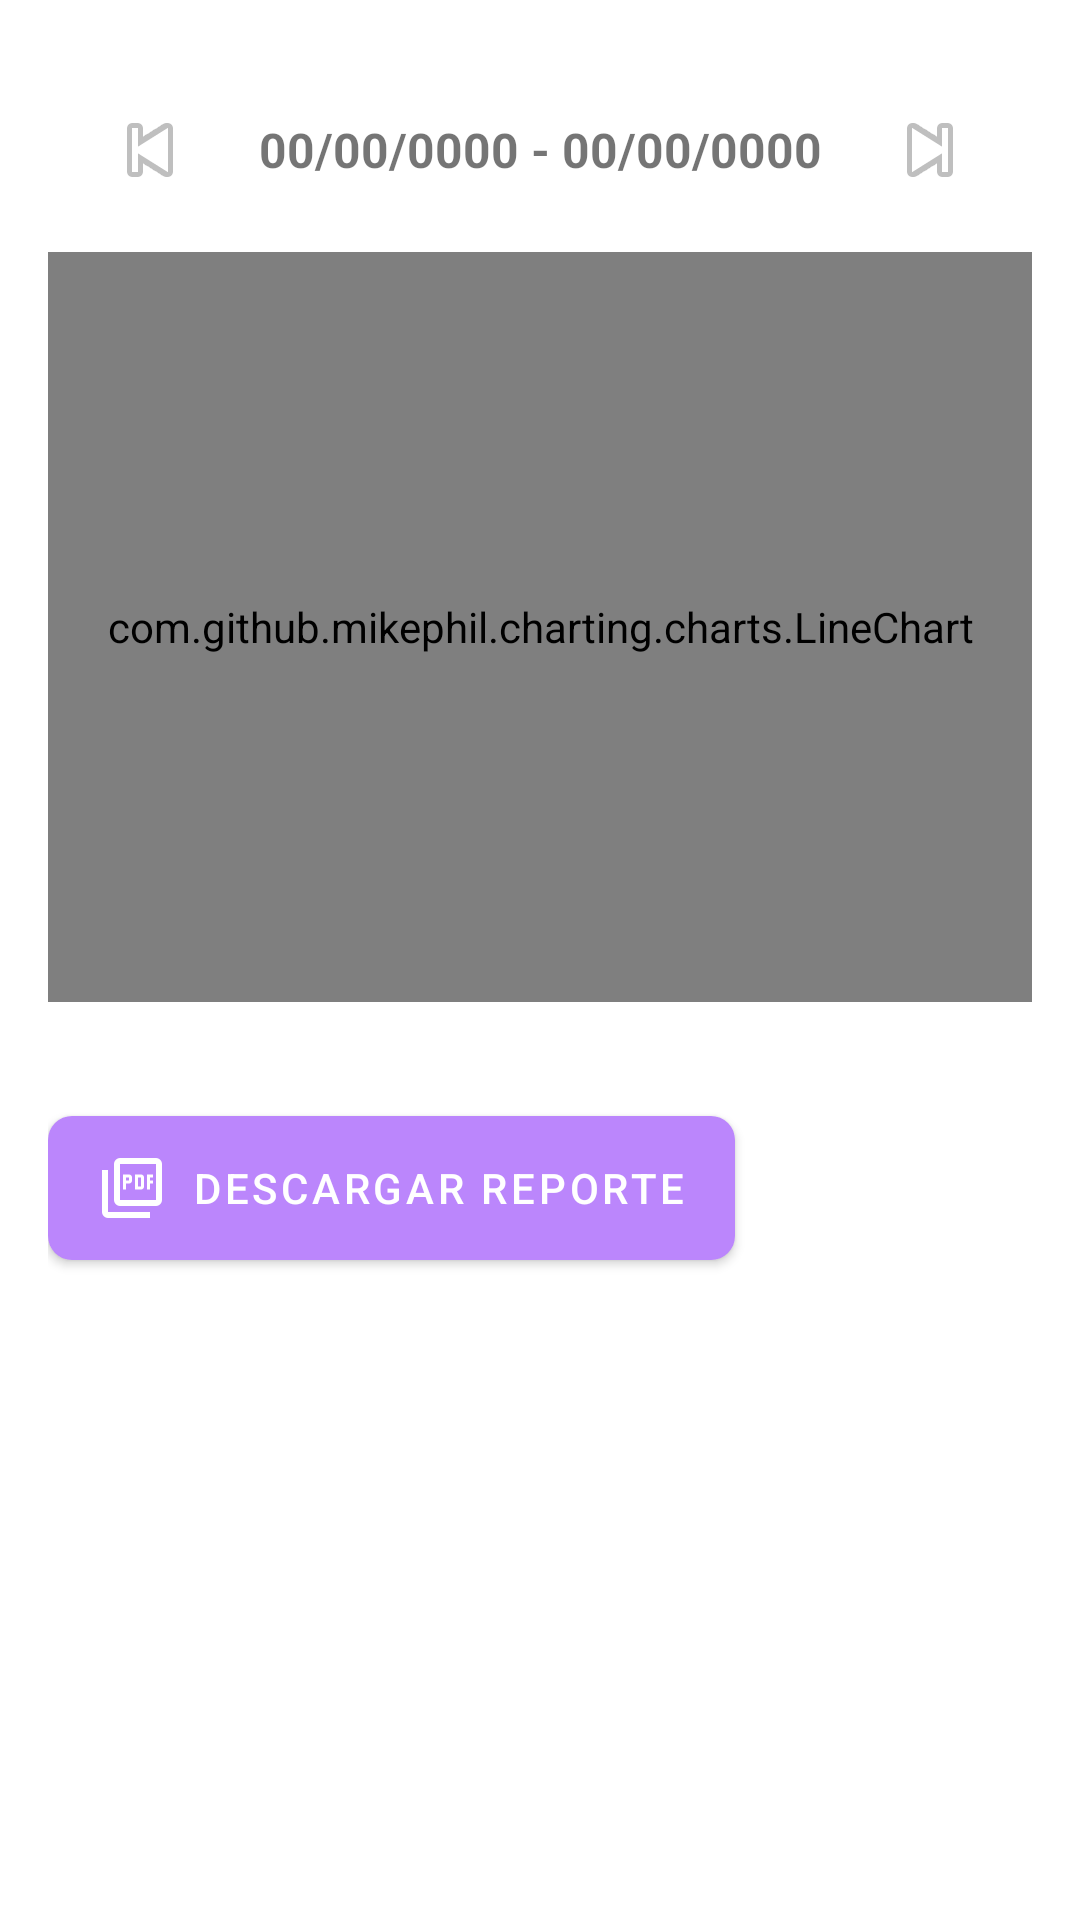

Screen size 1080px x 1920px. Icon name, then its center in pixels as (x=x, y=y):
Anterior: (x=150, y=150)
Siguiente: (x=930, y=150)
